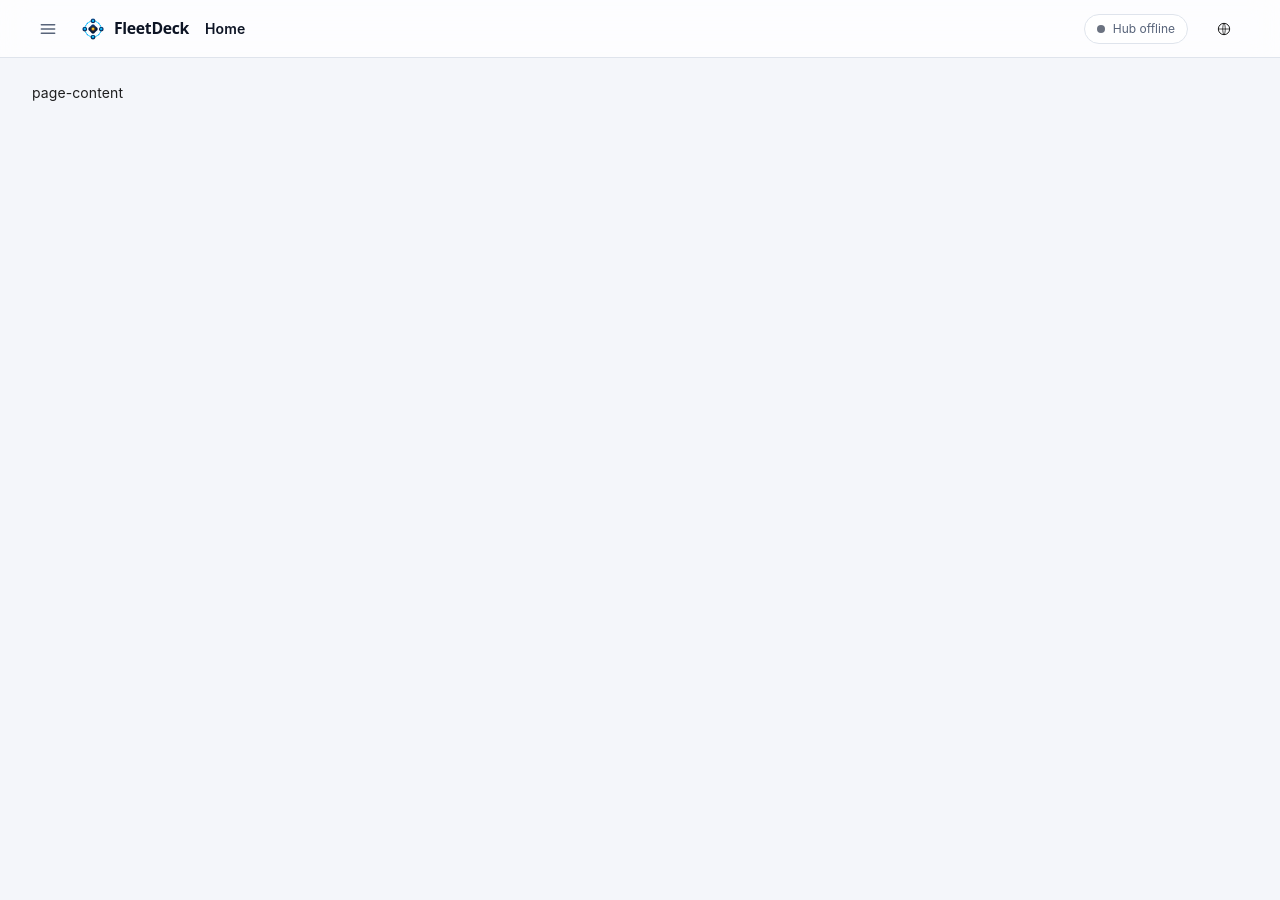
Test: AppLayout › opens the nav drawer from the header hamburger on small screens
Click the button named "Open navigation".
click(48, 28)  # box left=32, top=12, right=64, bottom=44
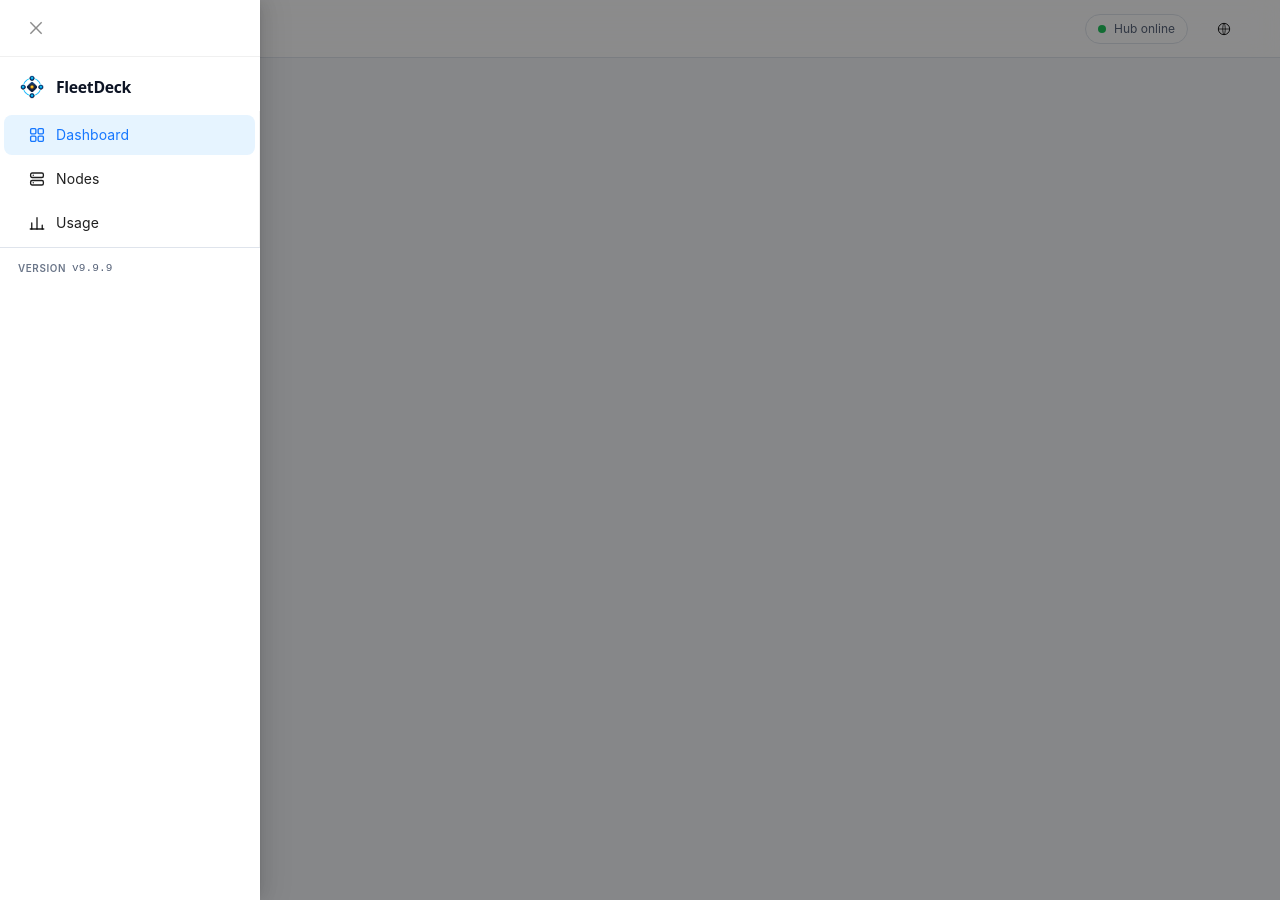
Expected: the text "Dashboard" is shown, left=56, top=126, right=129, bottom=143
Expected: the text "Nodes" is shown, left=56, top=170, right=100, bottom=187
